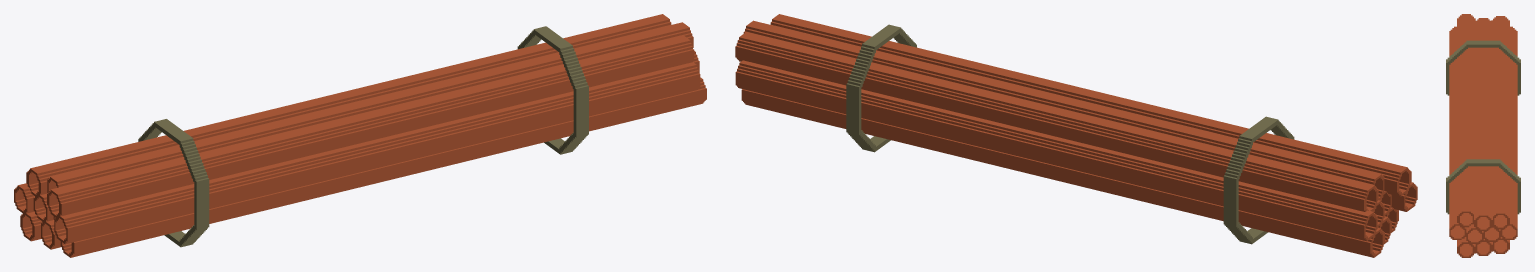
The model's file is bundle_copper_pipe.glb.
The picture shows the model from 3 angles, left to right: view 1: azimuth 30°, elevation 25°; view 2: azimuth 150°, elevation 25°; view 3: azimuth 270°, elevation 25°; orthographic projection. The views are drawn at different scales.
Parts seen in each view (by area): view 1: bundle_copper_pipe:compound; view 2: bundle_copper_pipe:compound; view 3: bundle_copper_pipe:compound.
Part boxes in pixels (x1,y1,x2,y2): bundle_copper_pipe:compound: (14, 14, 706, 257); bundle_copper_pipe:compound: (735, 14, 1417, 257); bundle_copper_pipe:compound: (1446, 14, 1520, 257).
Bounding box in the file's own units: 0.612 × 0.096 × 0.096.
